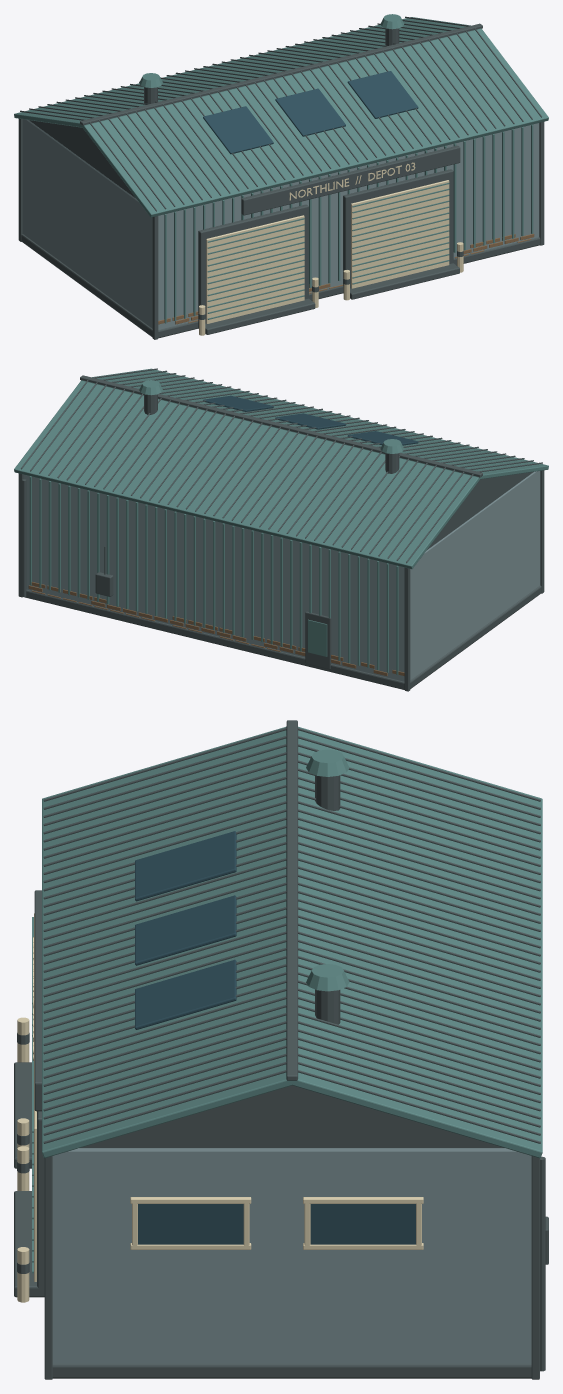
The model's file is Warehouse.glb.
The picture shows the model from 3 angles, top to bottom: view 1: azimuth 30°, elevation 25°; view 2: azimuth 150°, elevation 25°; view 3: azimuth 270°, elevation 25°; orthographic projection. The views are drawn at different scales.
Visible parts, largest first — view 1: Detail_Oxidized teal steel, Detail_Charcoal metal, MainShell, Detail_Ivory paint, Detail_Dark blue glass, Detail_Weathered timber; view 2: Detail_Oxidized teal steel, MainShell, Detail_Charcoal metal, Detail_Weathered timber, Detail_Dark blue glass; view 3: Detail_Oxidized teal steel, Detail_Charcoal metal, MainShell, Detail_Dark blue glass, Detail_Ivory paint.
Part boxes in pixels (<box>): Detail_Oxidized teal steel: <box>14,14,548,323</box>; Detail_Charcoal metal: <box>18,16,544,339</box>; MainShell: <box>22,119,539,329</box>; Detail_Ivory paint: <box>199,162,463,335</box>; Detail_Dark blue glass: <box>203,71,418,154</box>; Detail_Weathered timber: <box>158,233,534,324</box>; Detail_Oxidized teal steel: <box>14,368,548,675</box>; MainShell: <box>23,471,540,681</box>; Detail_Charcoal metal: <box>18,368,544,691</box>; Detail_Weathered timber: <box>28,582,404,675</box>; Detail_Dark blue glass: <box>203,395,418,445</box>; Detail_Oxidized teal steel: <box>32,726,542,1273</box>; Detail_Charcoal metal: <box>14,720,548,1379</box>; MainShell: <box>52,1148,531,1363</box>; Detail_Dark blue glass: <box>135,831,415,1244</box>; Detail_Ivory paint: <box>17,913,423,1302</box>.
Size of the model in its own units: 16.6 by 7.46 by 10.54.
